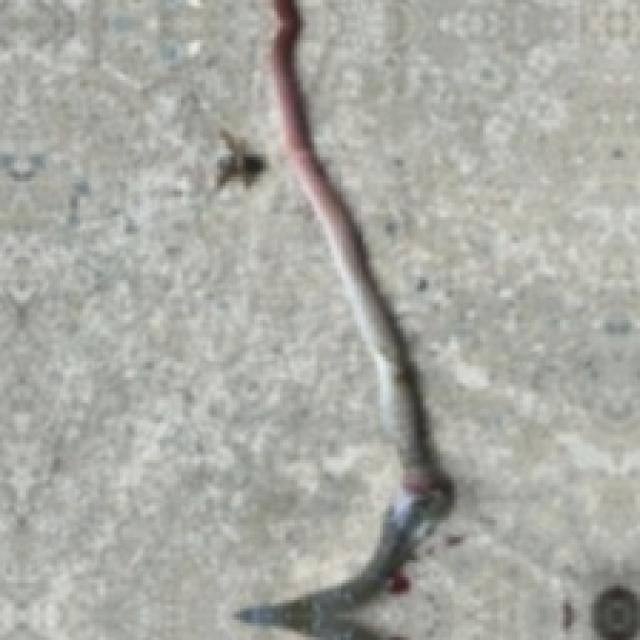reddish rat snake: (237, 0, 451, 637)
